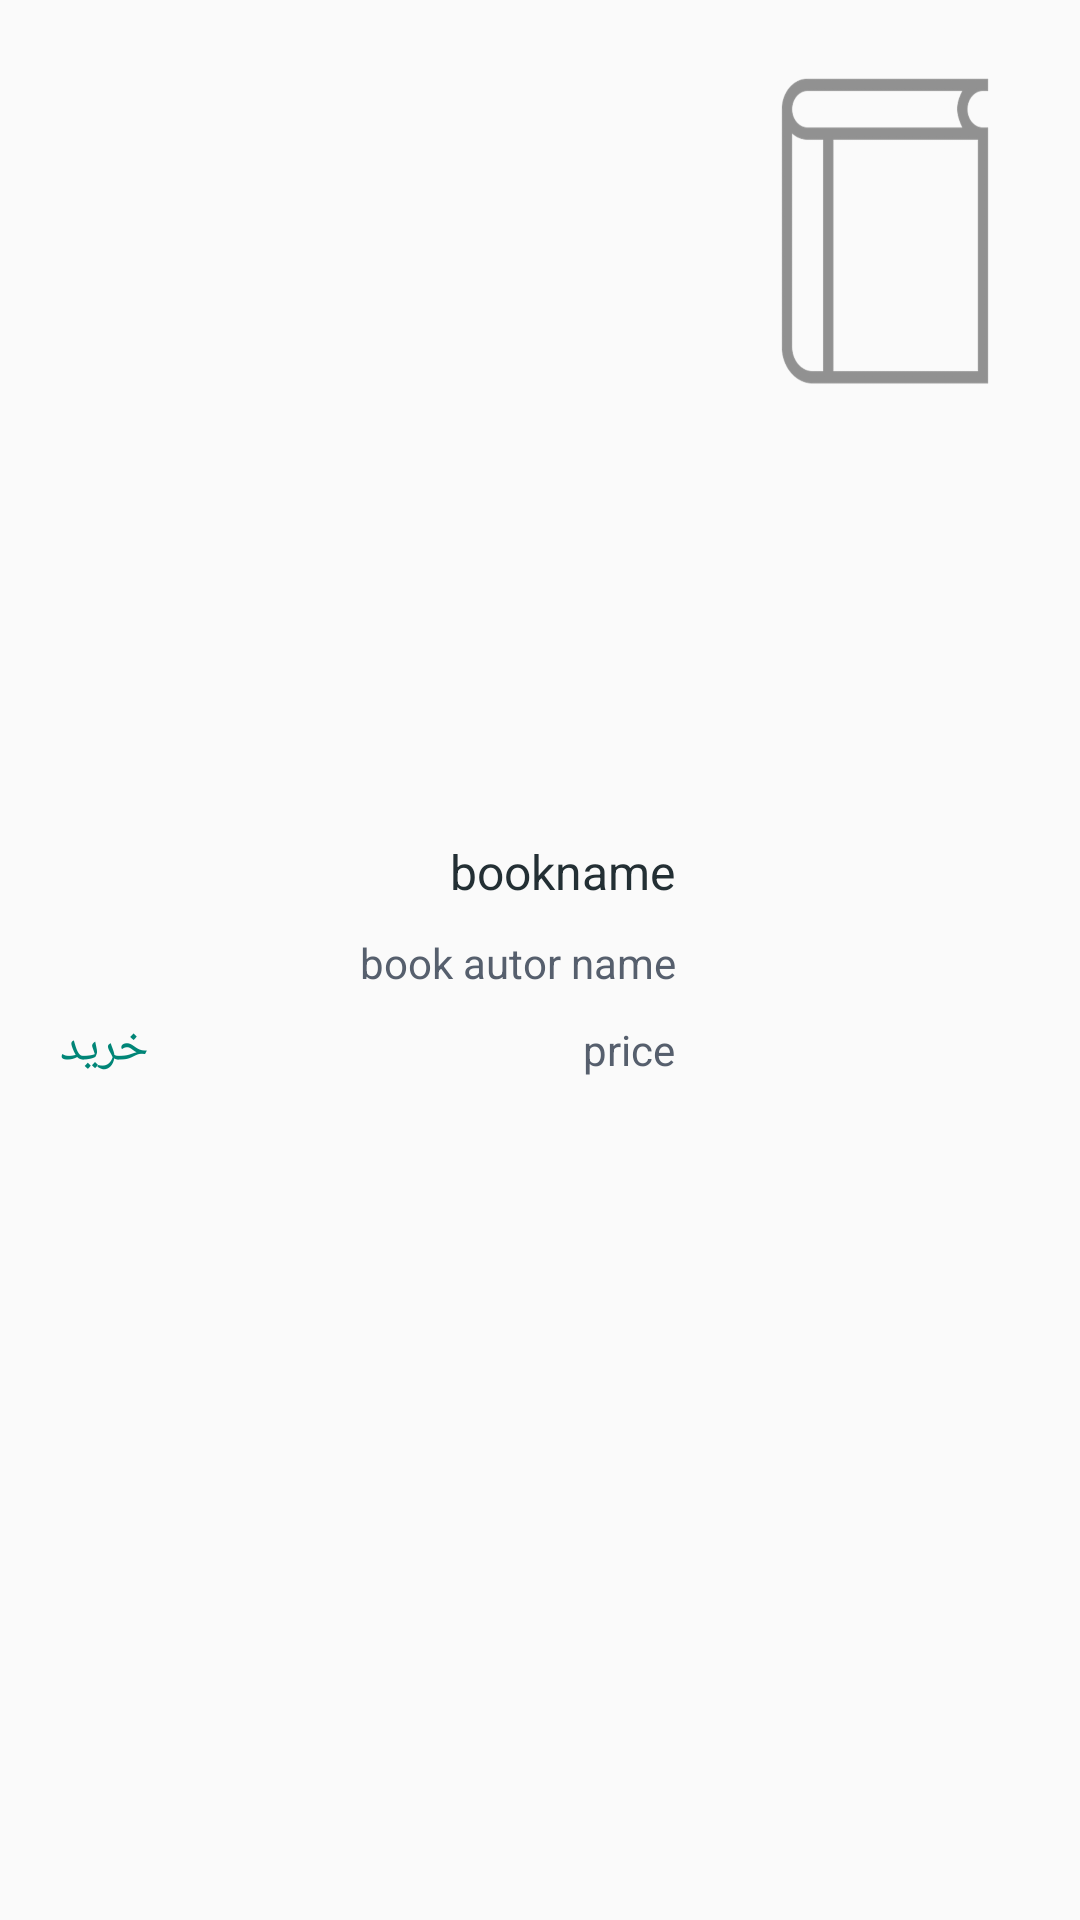

Icon bounding boxes for this 1080 x 1920 phone screenshot, format {"left": x1, "top": y1, "right": x2, "bottom": y2}:
book: {"left": 782, "top": 79, "right": 988, "bottom": 384}
